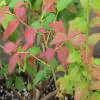Blueberry leaf: (1, 18, 21, 43), (69, 16, 89, 40), (80, 42, 95, 67), (57, 46, 71, 70), (49, 31, 70, 47), (13, 2, 27, 23), (67, 49, 84, 66), (73, 81, 88, 100), (9, 50, 20, 75), (52, 21, 67, 39), (24, 25, 35, 48), (42, 44, 56, 62), (32, 70, 46, 88), (19, 51, 31, 72), (87, 61, 99, 81), (56, 76, 70, 91), (2, 40, 15, 56), (68, 68, 81, 81), (14, 36, 24, 52)
